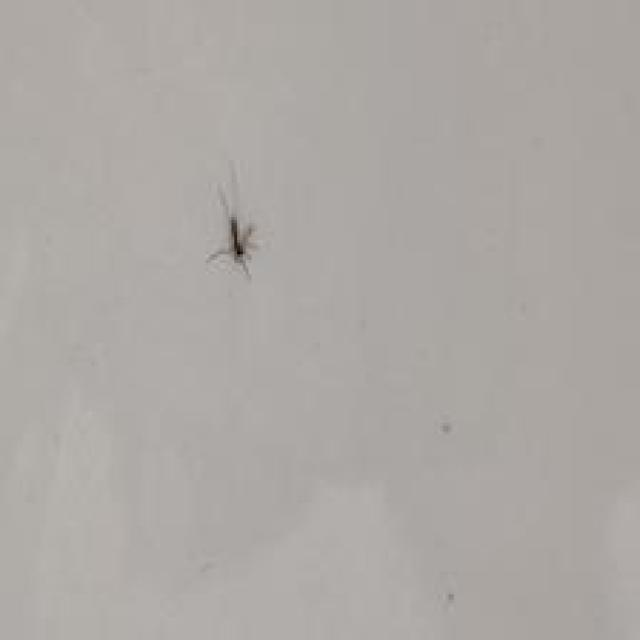Culex: (206, 158, 260, 278)
